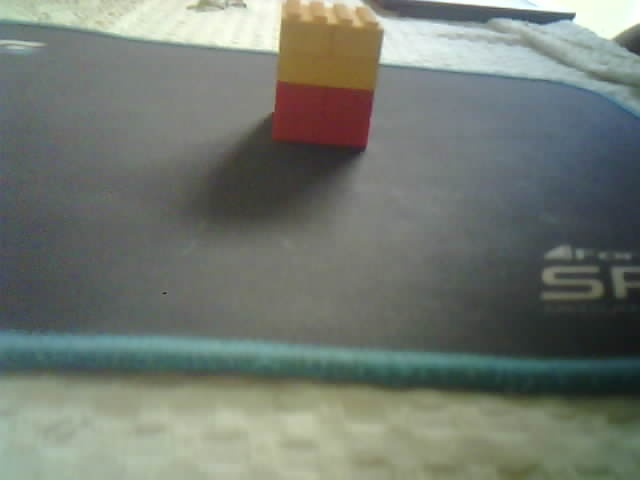lego: (269, 1, 385, 148)
